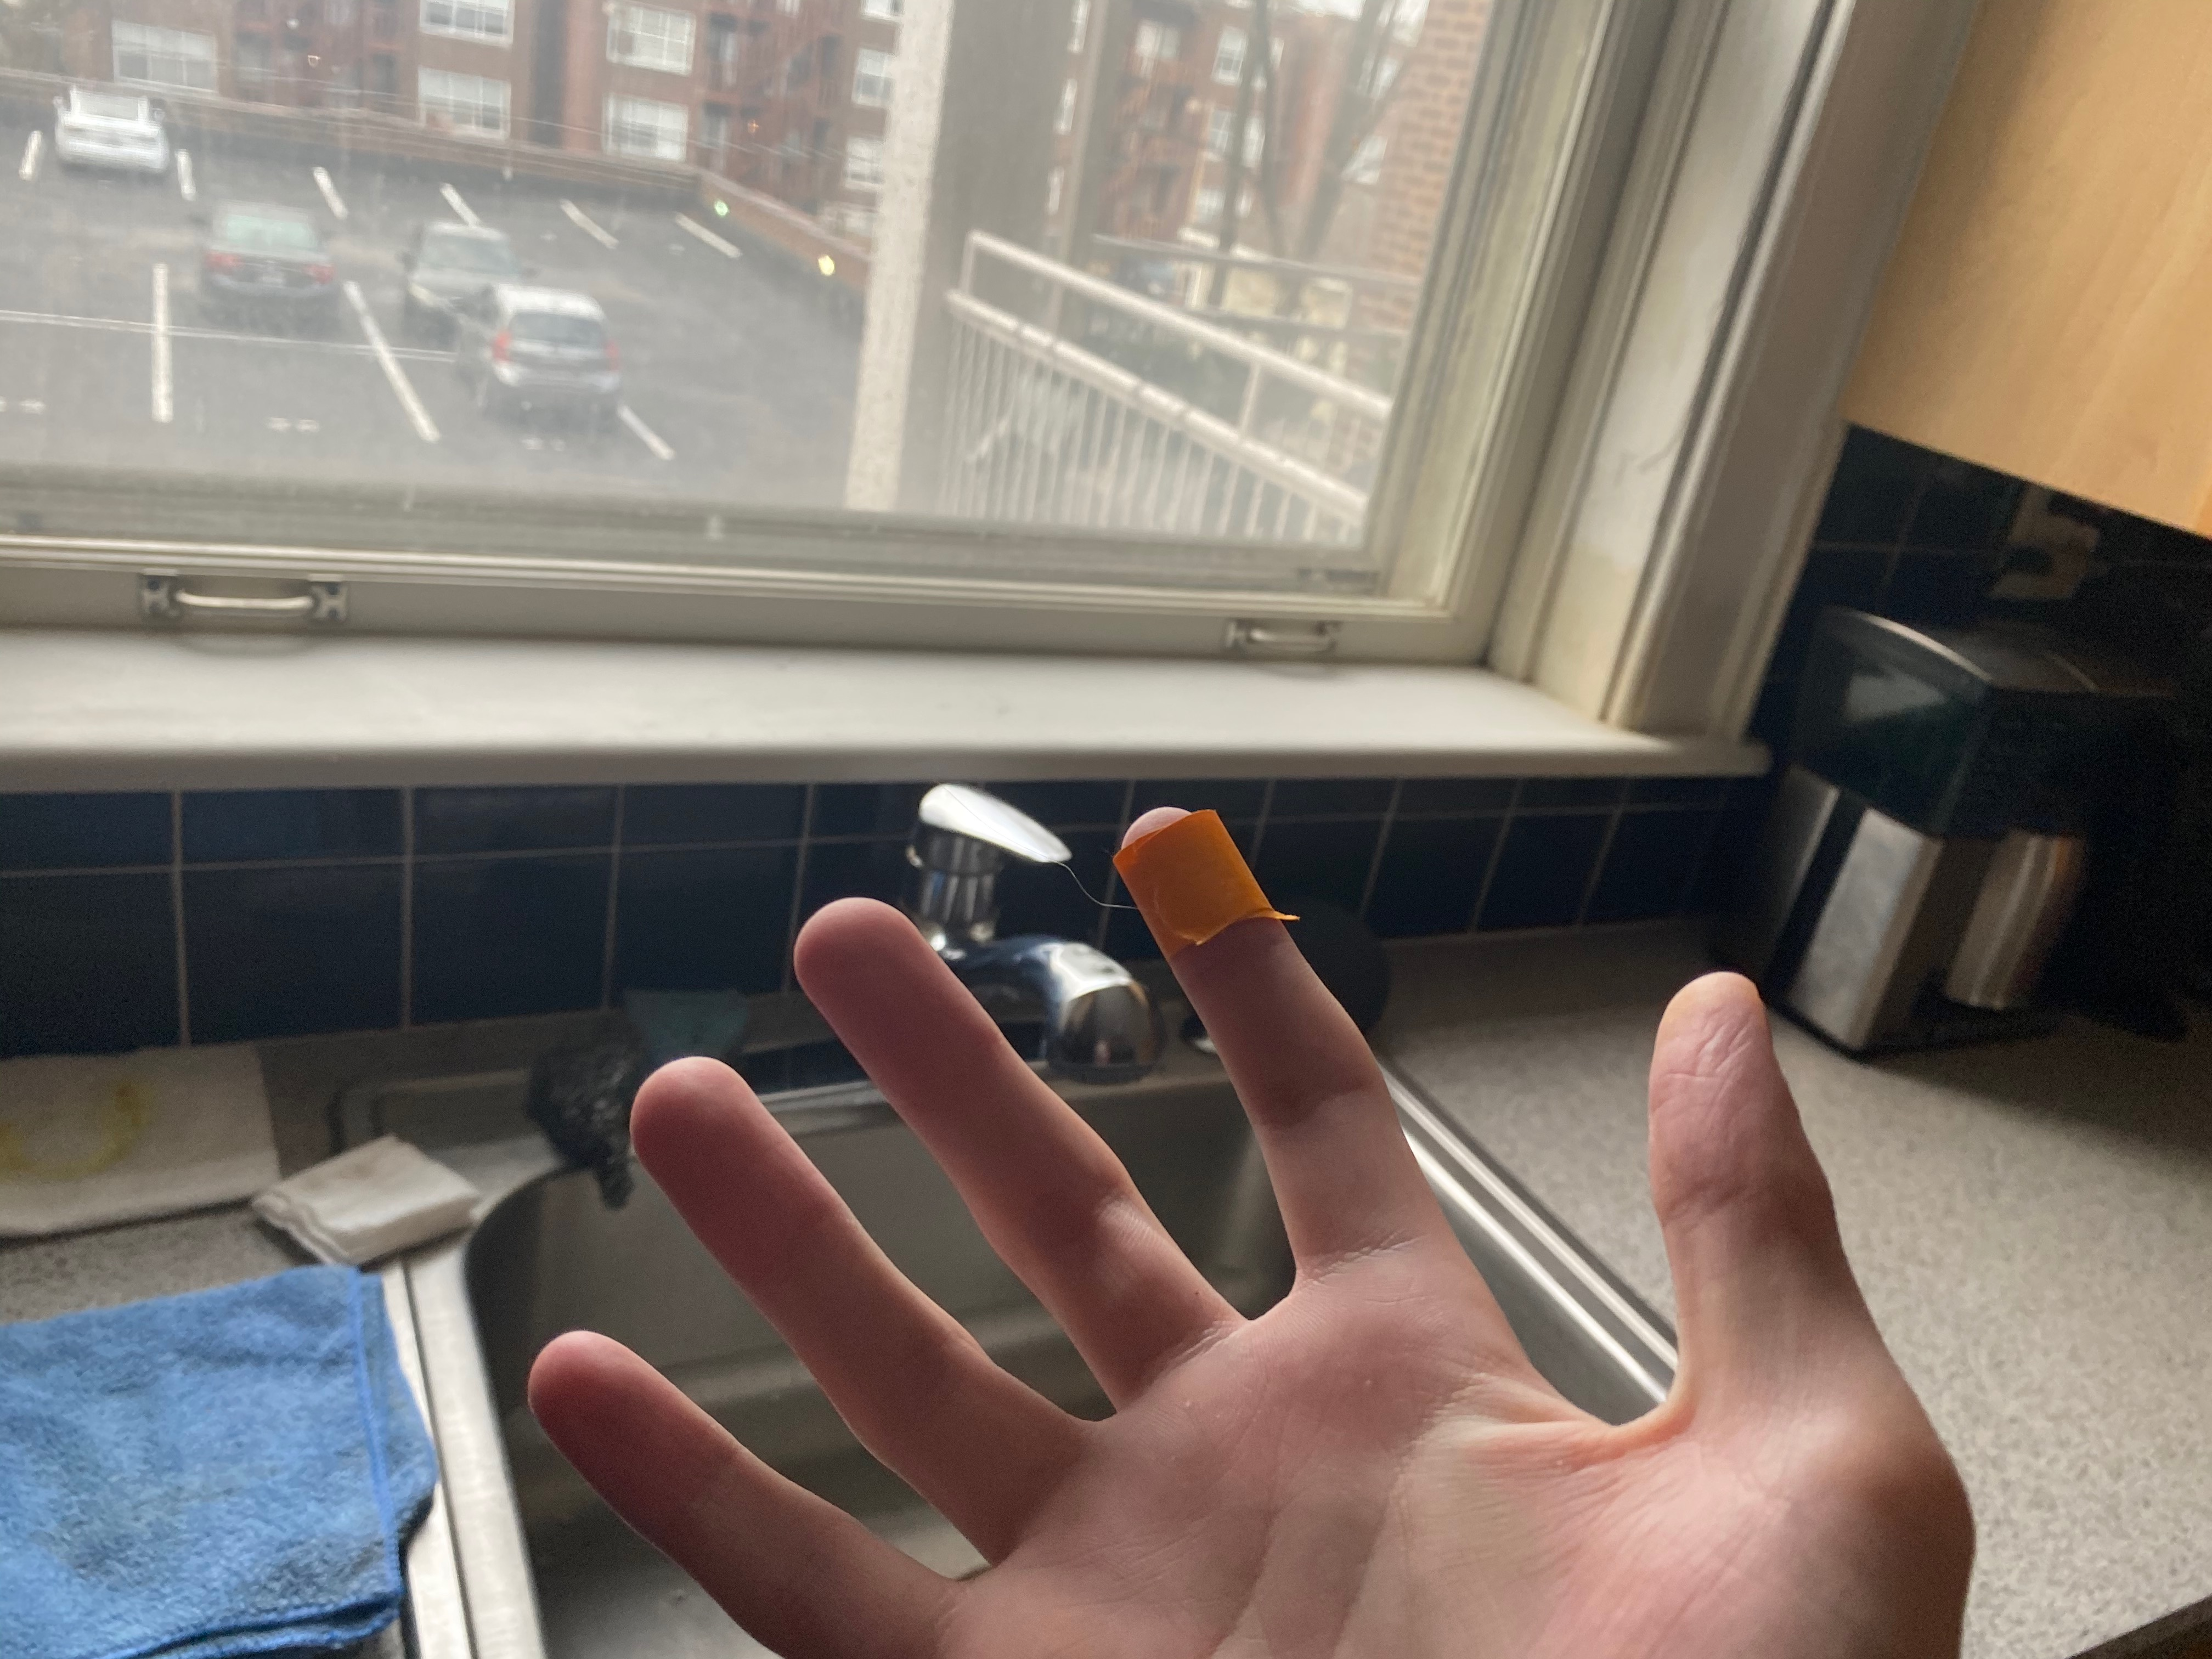fingertip: (1078, 798, 1318, 962)
